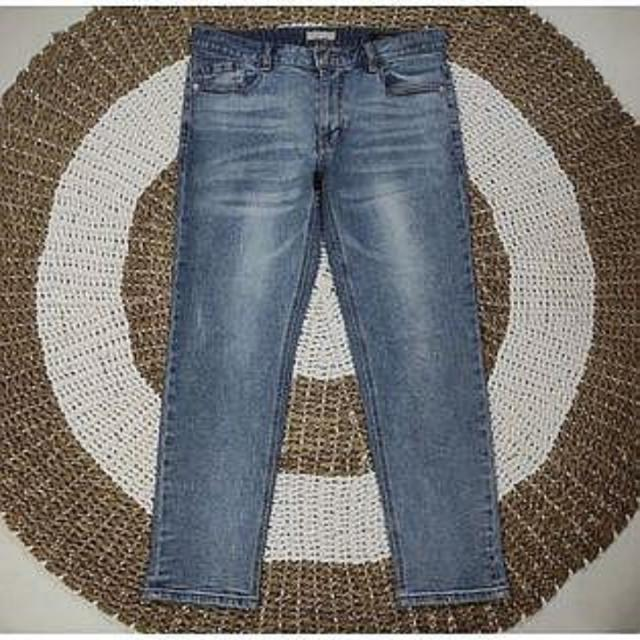TROUSER: (137, 18, 522, 626)
